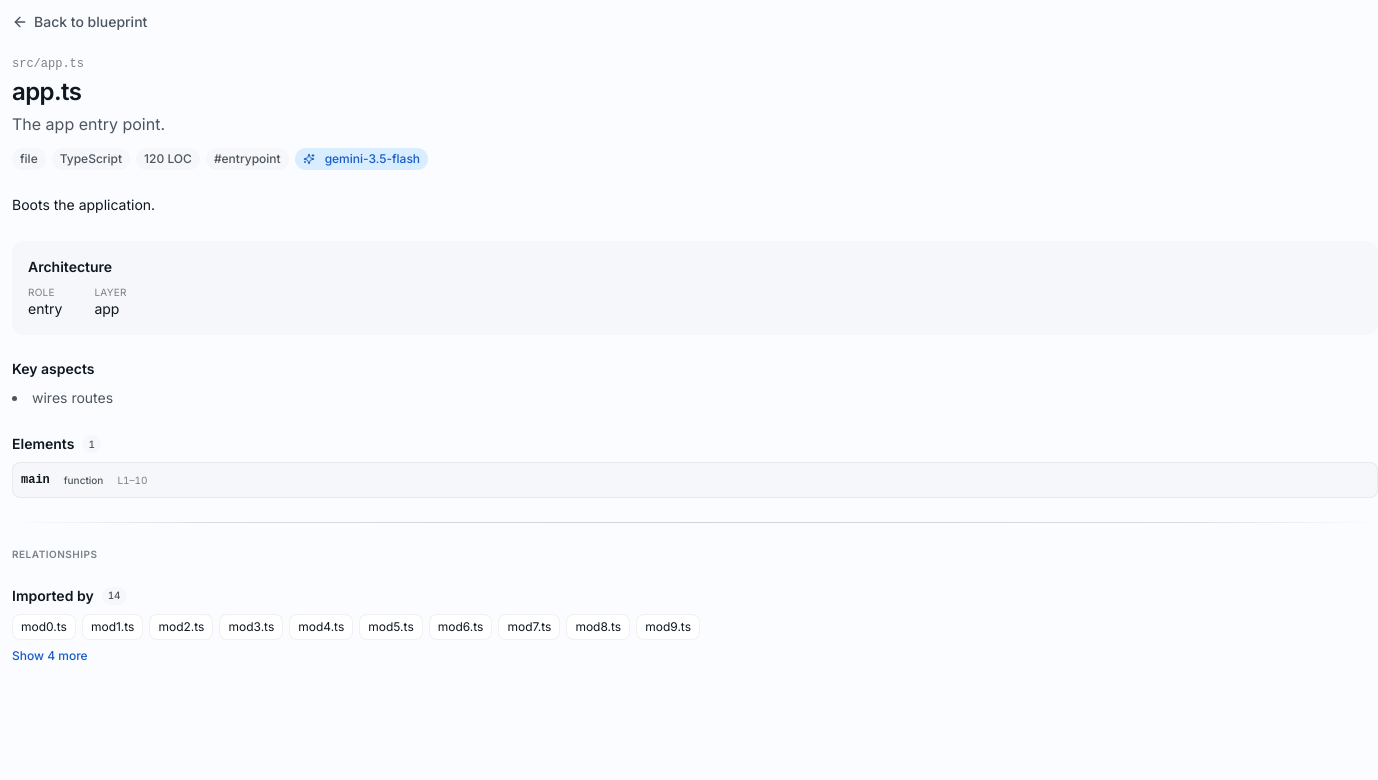
Test: ShowcaseNodeView › paginates a long relation list to 10 with a show-more toggle
The width and height of the screenshot is (1378, 780).
Expected: the button "mod0.ts" is shown, [12,614,76,640]
Expected: the text "mod13.ts" is not shown
What coordinates should you click on to do the following:
click the button "Show 4 more"
I would click on:
 (50, 656)
Its box is [12,648,88,664].
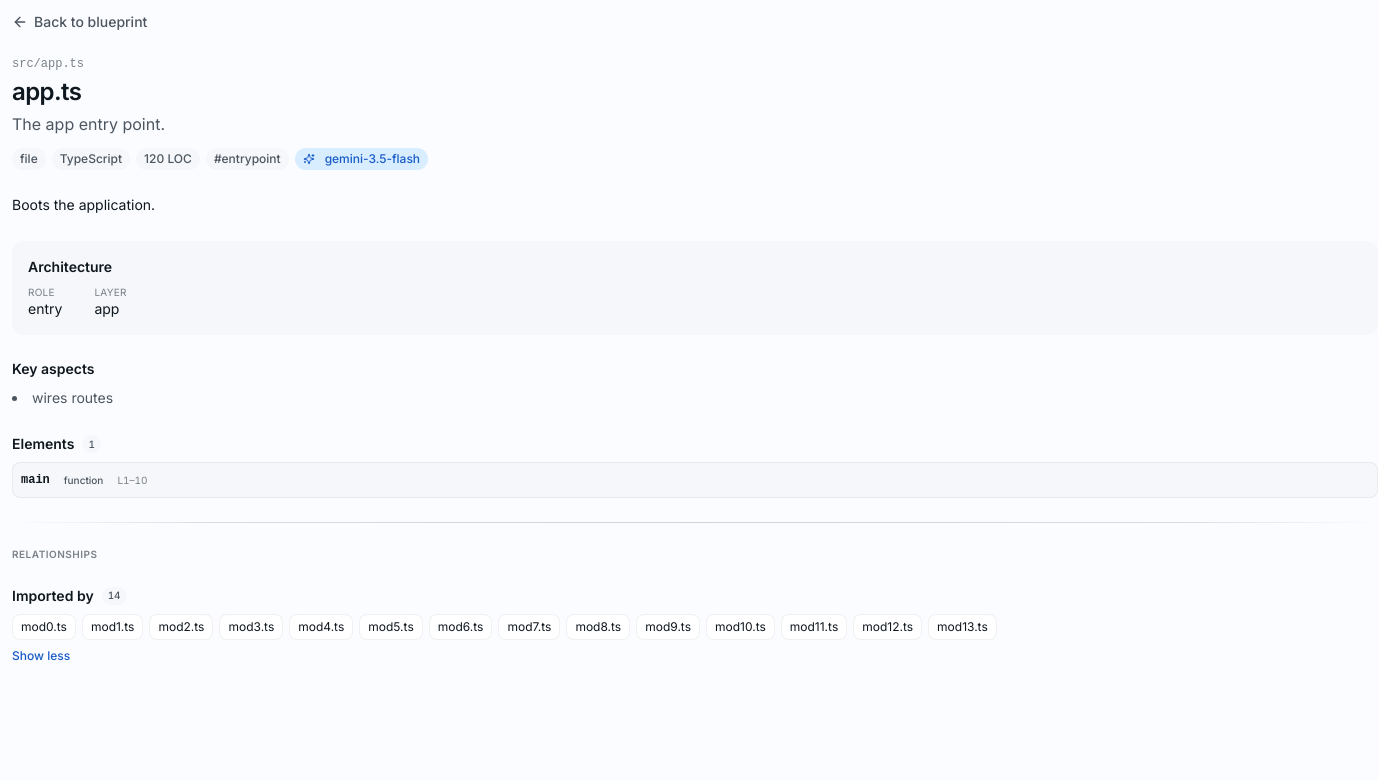
Result: the button "mod13.ts" is shown at [928,614,997,640]
